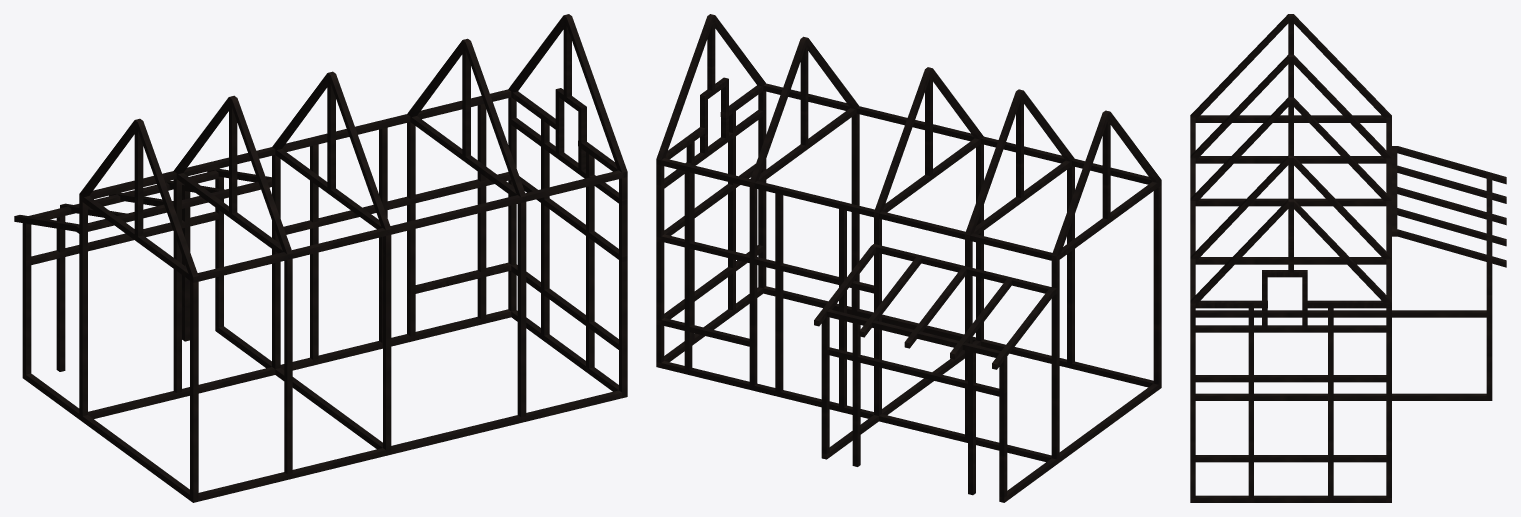
The model's file is h3_skeleton_a.fbx.
3 views of the same model, side by side, from view 1: azimuth 30°, elevation 25°; view 2: azimuth 150°, elevation 25°; view 3: azimuth 270°, elevation 25° (orthographic). The views are drawn at different scales.
Visible parts, largest first — view 1: post.116, post.138, post.139, post.137, post.105, post.111, post.107, post.109, post.112, post.140, post.103, post.126 (+41 smaller); view 2: post.137, post.120, post.139, post.138, post.116, post.106, post.124, post.126, post.111, post.112, post.140, post.104 (+43 smaller); view 3: post.120, post.142, post.140, post.141, post.131, post.130, post.134, post.092, post.096, post.100, post.085, post.129 (+22 smaller).
Part boxes in pixels (x1,y1,x2,y2): post.116: (193,170,624,281); post.138: (193,390,622,501); post.139: (88,309,511,418); post.137: (89,89,511,198); post.105: (517,202,526,422); post.111: (190,281,198,502); post.107: (383,235,391,455); post.109: (284,259,292,479); post.112: (79,200,87,416); post.140: (22,373,189,500); post.103: (619,177,627,398); post.126: (477,104,486,324); post.137: (661,158,1052,260); post.120: (814,246,1011,359); post.139: (661,361,1051,461); post.138: (763,286,1153,387); post.116: (763,83,1152,184); post.106: (749,187,757,390); post.124: (775,193,783,396); post.126: (684,171,692,374); post.111: (1153,185,1161,389); post.112: (1051,260,1059,459); post.140: (999,383,1161,502); post.104: (656,164,664,362); post.120: (1397,165,1506,267); post.142: (1195,393,1486,400); post.140: (1195,310,1486,317); post.141: (1190,495,1386,502); post.131: (1190,455,1386,462); post.130: (1190,375,1386,382); post.134: (1191,325,1386,332); post.092: (1195,198,1386,206); post.096: (1195,257,1386,264); post.100: (1195,156,1386,163); post.085: (1195,115,1386,122); post.129: (1328,308,1333,502).
Size of the model in its own units: 2704 by 2024 by 1927.
